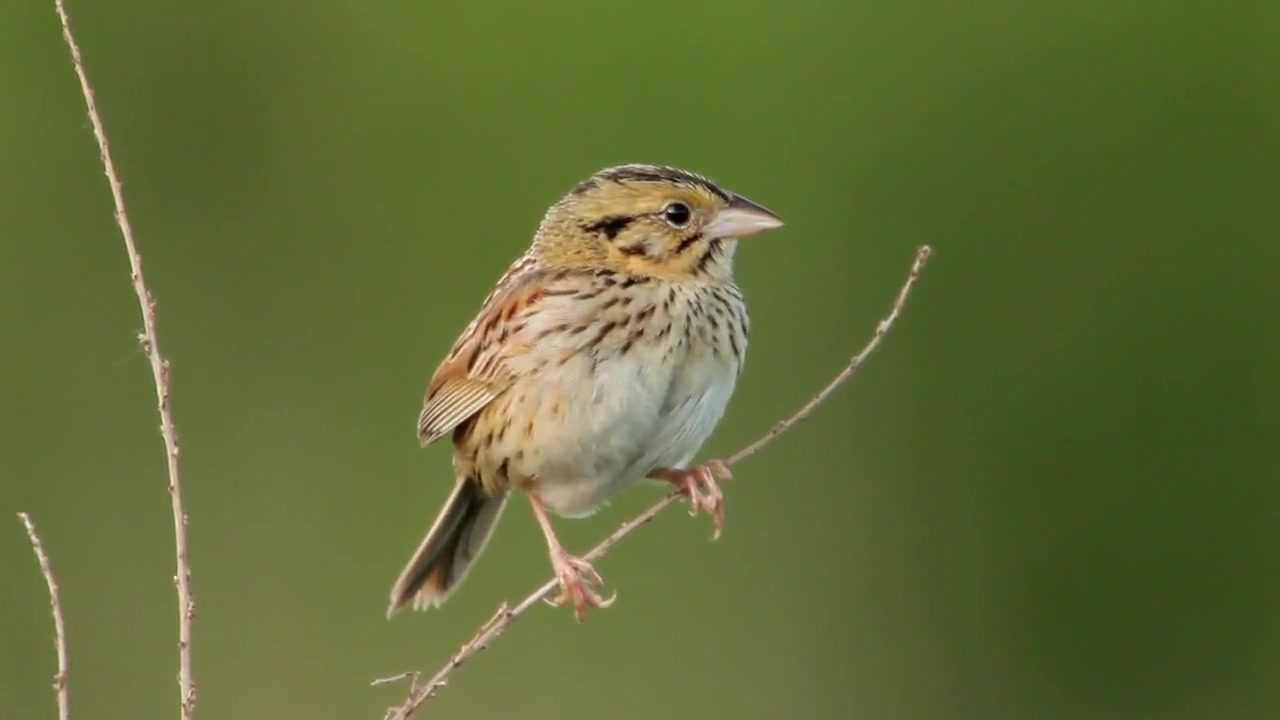bird: (386, 163, 788, 622)
